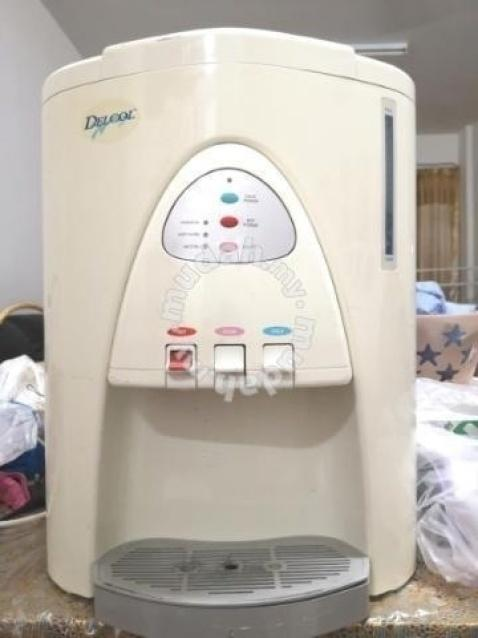Dispenser: (39, 26, 416, 637)
